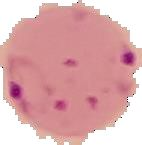parasitized: (5, 9, 140, 136), (5, 50, 69, 127), (61, 4, 96, 75), (45, 89, 113, 123), (103, 38, 142, 87)
